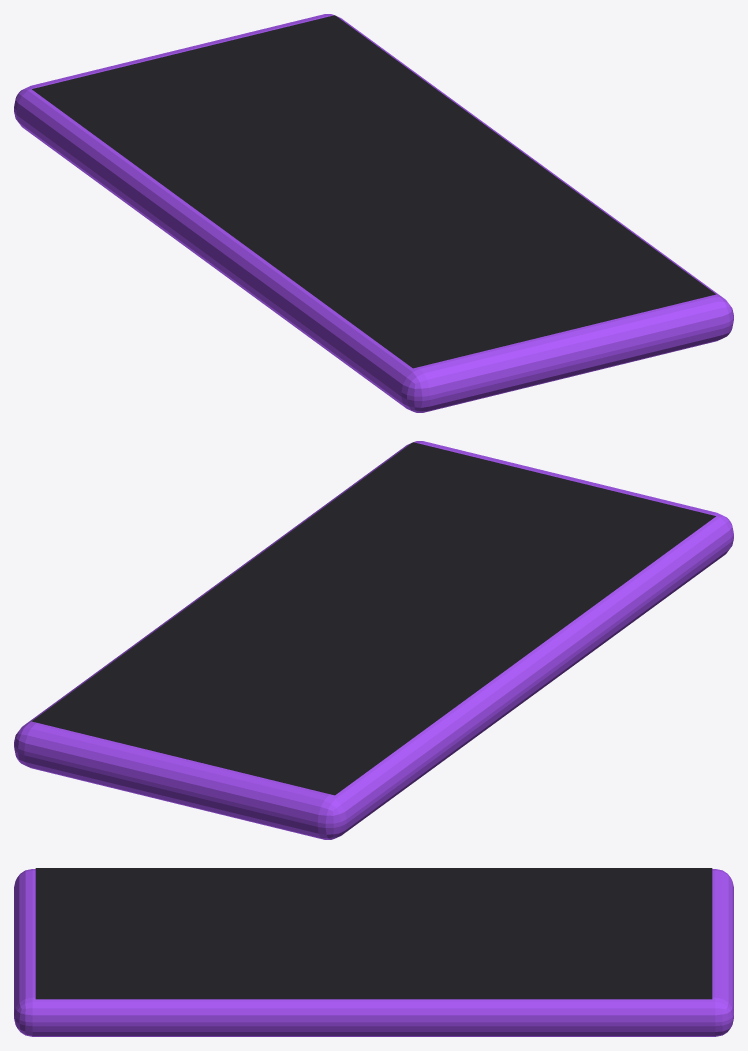
File: motorola-moto-g-model-142-budget-2026.glb
The picture shows the model from 3 angles, top to bottom: view 1: azimuth 30°, elevation 25°; view 2: azimuth 150°, elevation 25°; view 3: azimuth 270°, elevation 25°; orthographic projection. The views are drawn at different scales.
Visible parts, largest first — view 1: Phone_Screen, Phone_Body; view 2: Phone_Screen, Phone_Body; view 3: Phone_Screen, Phone_Body.
Part boxes in pixels (bbox=[...]): Phone_Screen: bbox=[32, 15, 715, 368]; Phone_Body: bbox=[14, 14, 733, 412]; Phone_Screen: bbox=[32, 442, 715, 795]; Phone_Body: bbox=[14, 441, 733, 839]; Phone_Screen: bbox=[35, 868, 712, 999]; Phone_Body: bbox=[14, 869, 733, 1036].
Bounding box in the file's own units: 0.0709 × 0.0088 × 0.1511.
